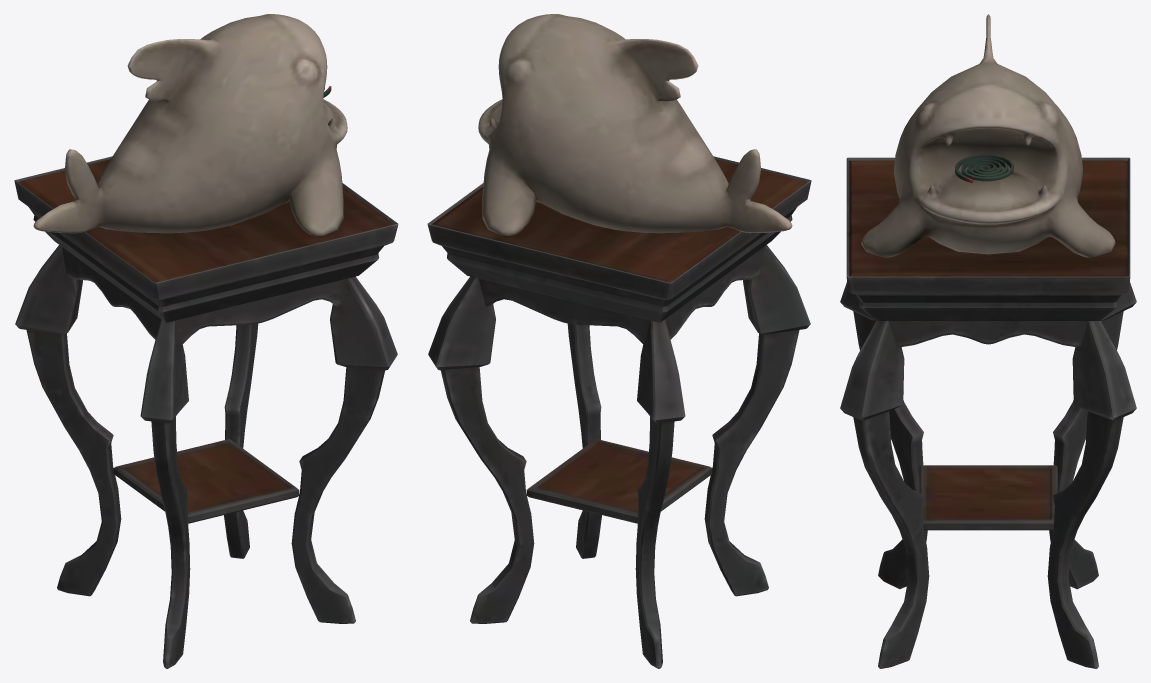
The model's file is SM_IncenseBurner_b86db3.glb.
3 renders of one model, left to right at view 1: azimuth 30°, elevation 25°; view 2: azimuth 150°, elevation 25°; view 3: azimuth 270°, elevation 25°, orthographic.
Bounding box in the file's own units: 0.4567 × 0.833 × 0.3867.
Materials: 1 (1 with a texture image).
